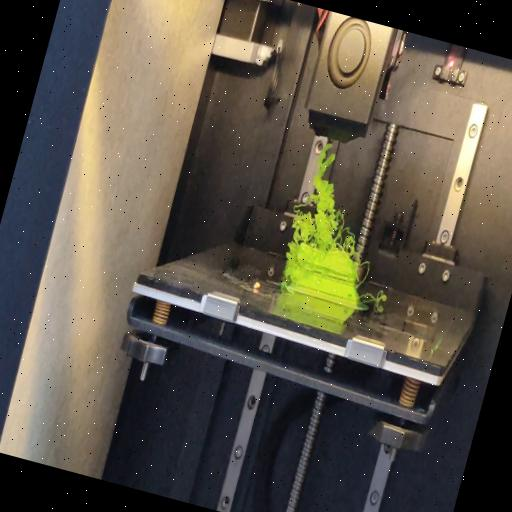spaghetti: (285, 136, 382, 262), (276, 245, 299, 291), (356, 286, 392, 308), (352, 258, 372, 290)
